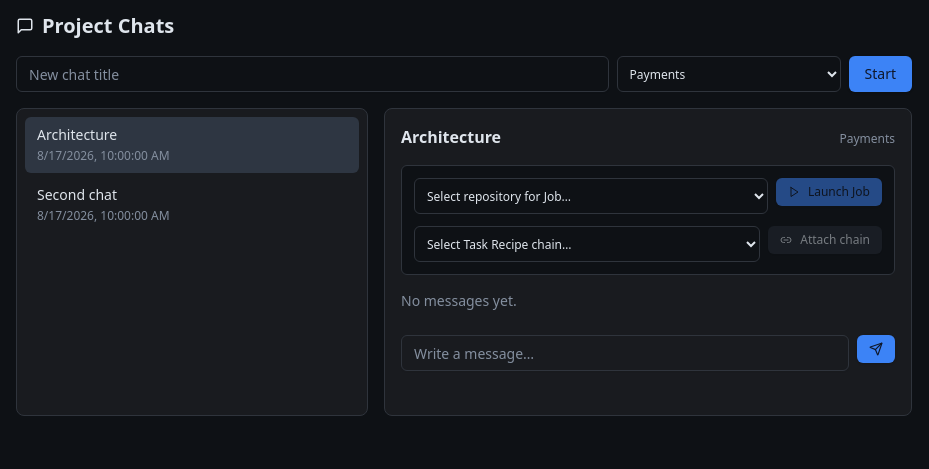
Test: ProjectChats › ignores a stale message fetch after selecting another Chat
expect the text "Second chat" is shown: met, box [37, 185, 117, 204]
Click the link "Second chat 8/17/2026, 10:00:00 AM": {"x": 103, "y": 204} [37, 185, 170, 224]
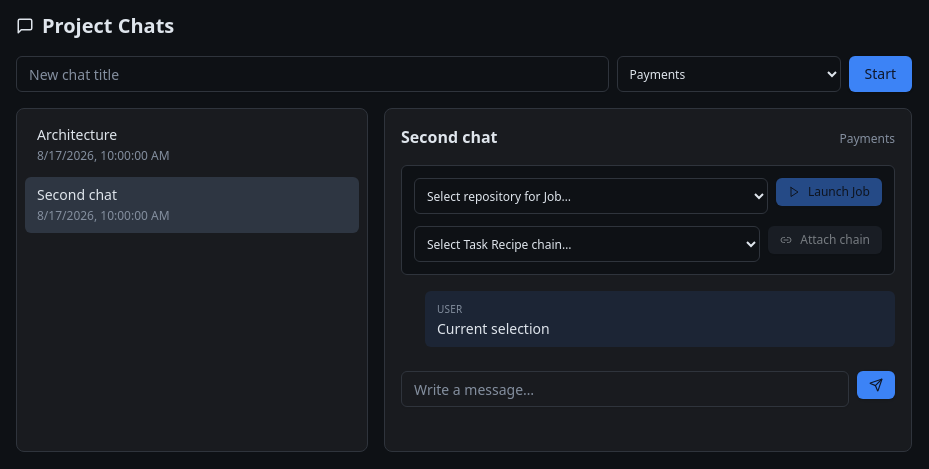
expect the text "Current selection" is shown: met, box [437, 319, 550, 338]
